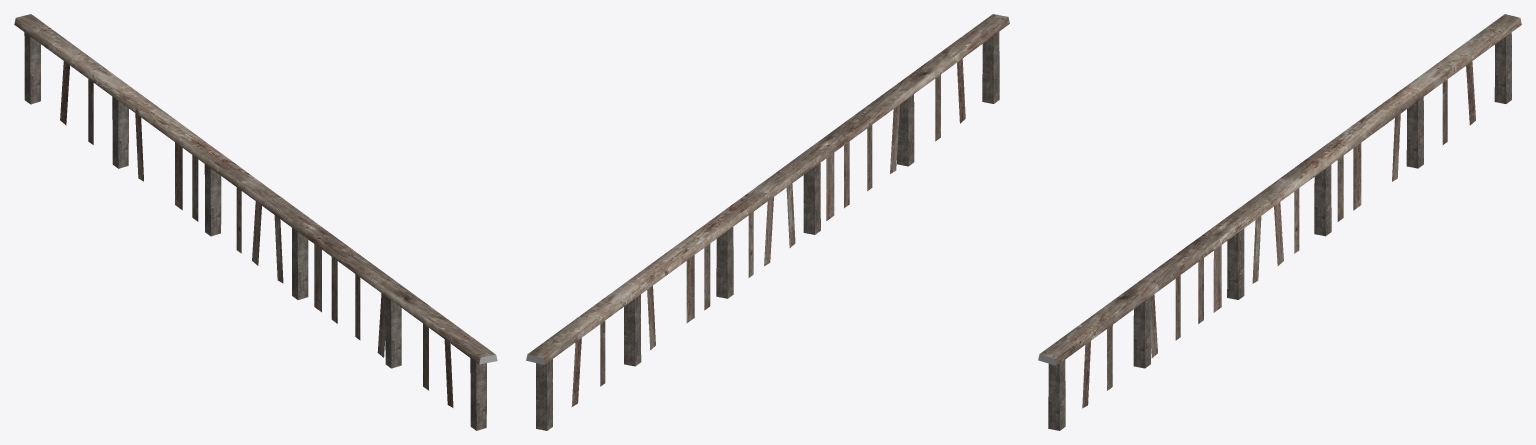
File: Barrier1_LOD1.fbx
3 views of the same model, side by side, from view 1: azimuth 30°, elevation 25°; view 2: azimuth 150°, elevation 25°; view 3: azimuth 330°, elevation 25° (orthographic).
Visible parts, largest first — view 1: polySurface869; view 2: polySurface869; view 3: polySurface869.
Boxes of the visible parts, left/top/right/bottom form: polySurface869: left=14, top=14, right=497, bottom=430; polySurface869: left=526, top=14, right=1009, bottom=430; polySurface869: left=1038, top=14, right=1521, bottom=430.
Size of the model in its own units: 0.2599 by 1.07 by 11.37.
